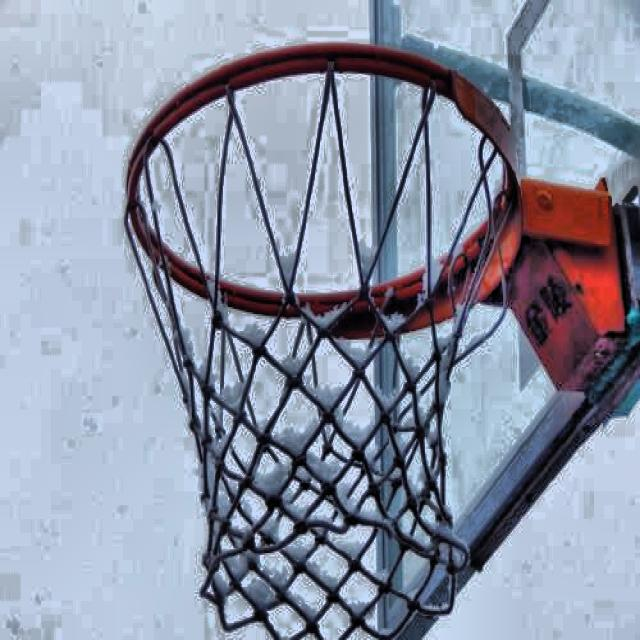rim: (119, 37, 521, 640)
